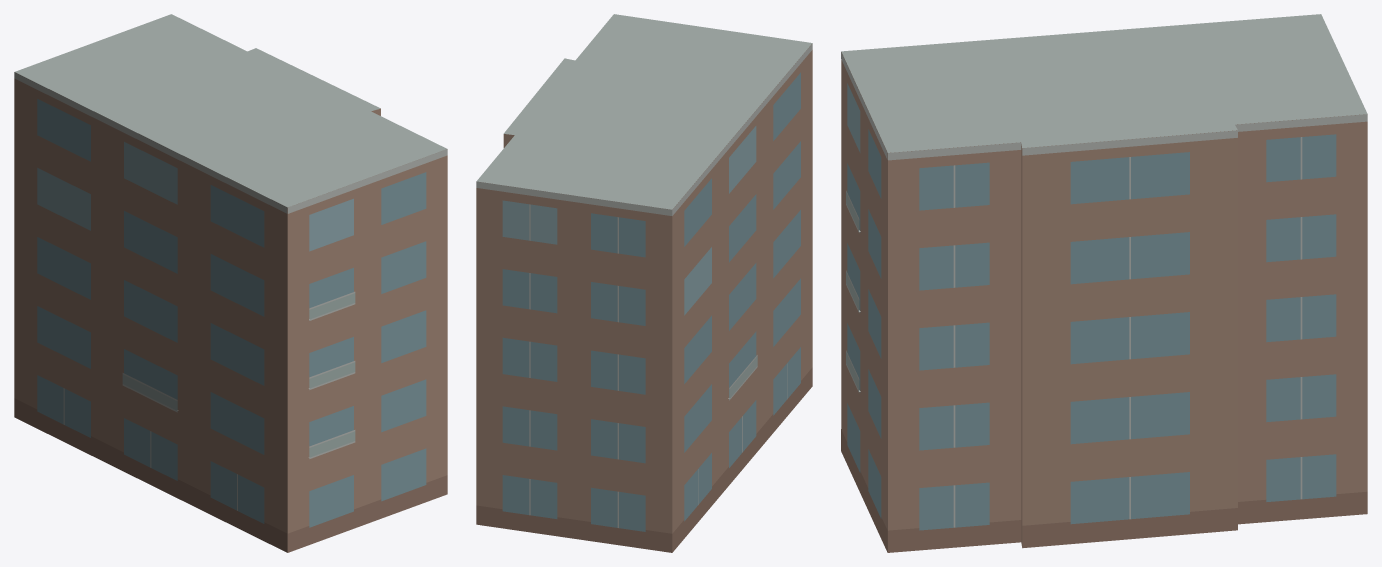
The model's file is survey-upis-32843671.glb.
3 views of the same model, side by side, from view 1: azimuth 30°, elevation 25°; view 2: azimuth 150°, elevation 25°; view 3: azimuth 270°, elevation 25° (orthographic). The views are drawn at different scales.
Visible parts, largest first — view 1: survey-upis-32843671.tmp; view 2: survey-upis-32843671.tmp; view 3: survey-upis-32843671.tmp.
Part boxes in pixels (left/top/right/bottom): survey-upis-32843671.tmp: left=14, top=14, right=447, bottom=552; survey-upis-32843671.tmp: left=476, top=14, right=812, bottom=552; survey-upis-32843671.tmp: left=841, top=14, right=1367, bottom=552.
Bounding box in the file's own units: 9.7 × 13 × 15.52.
